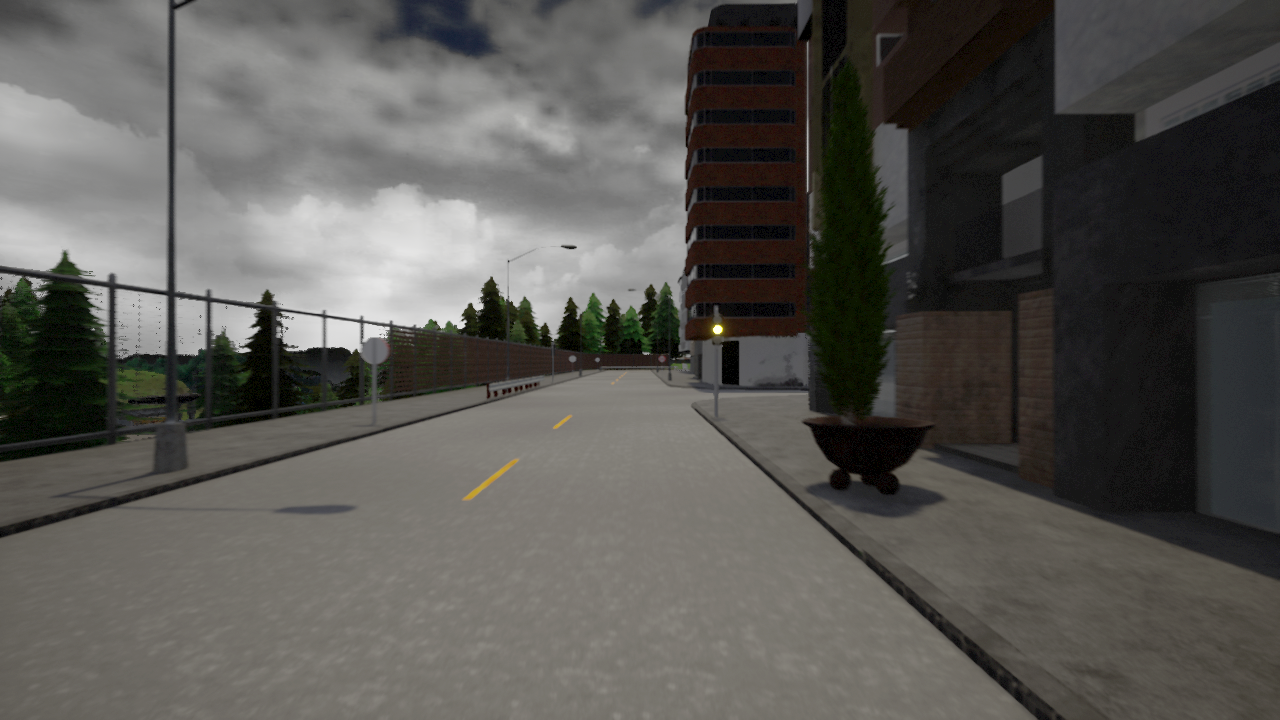yellow: (711, 313, 724, 347)
